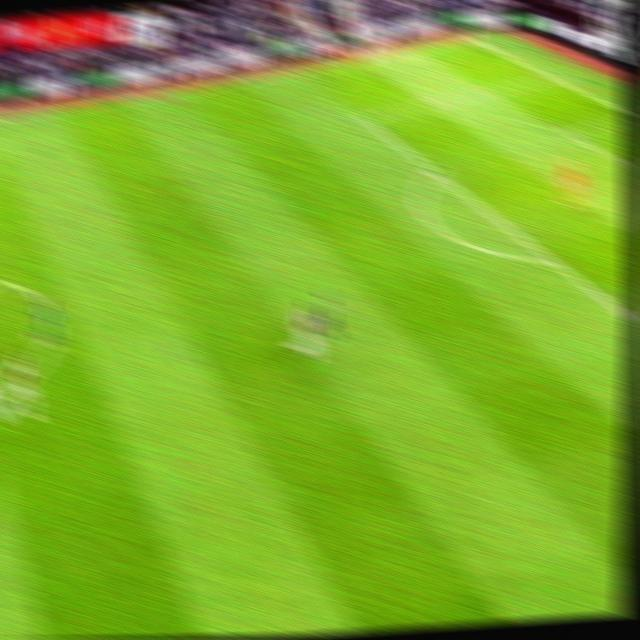bigarea_top_inner: (351, 106, 377, 130)
bigarea_top_outter: (538, 67, 563, 86)
bottom_arc_area_intersection: (539, 248, 565, 272)
corner: (454, 30, 483, 47)
smallarea_top_inner: (554, 122, 579, 143)
top_arc_area_intersection: (422, 159, 447, 183)
